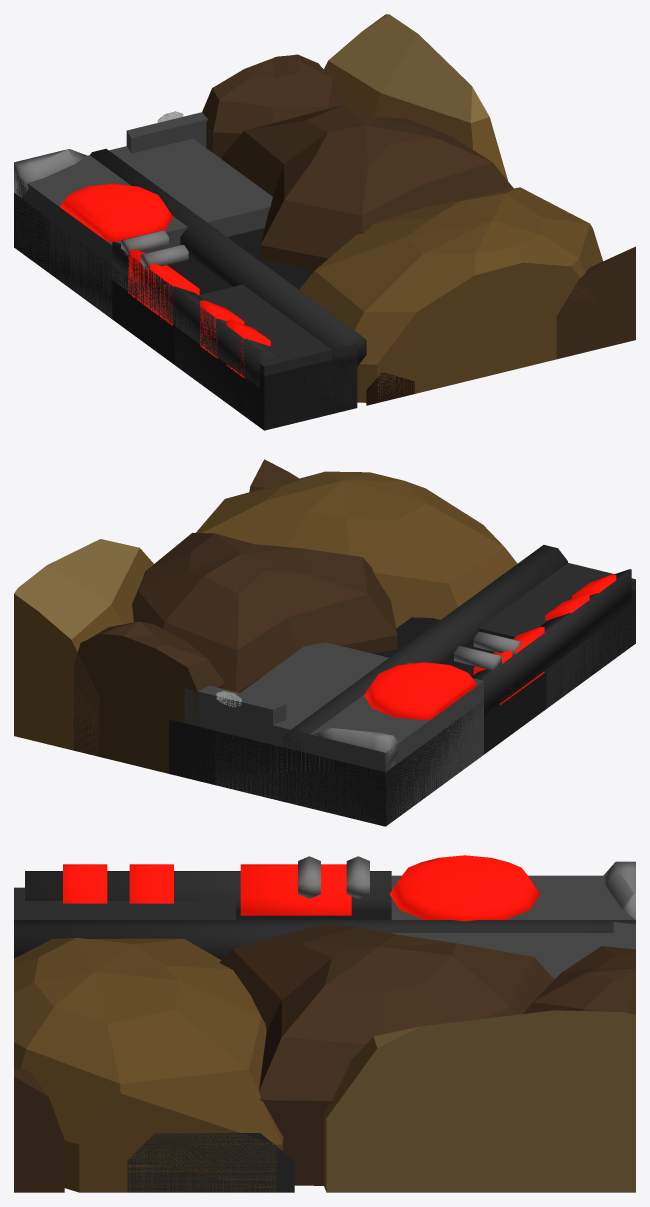
The model's file is newshr-237.glb.
3 views of the same model, one above another, from view 1: azimuth 30°, elevation 25°; view 2: azimuth 150°, elevation 25°; view 3: azimuth 270°, elevation 25° (orthographic). The views are drawn at different scales.
Visible parts, largest first — view 1: newshr-237; view 2: newshr-237; view 3: newshr-237.
Part boxes in pixels (x1,y1,x2,y2): newshr-237: (14, 14, 635, 430); newshr-237: (14, 459, 635, 826); newshr-237: (14, 855, 635, 1192).
Bounding box in the file's own units: 2 × 0.7548 × 2.33.
